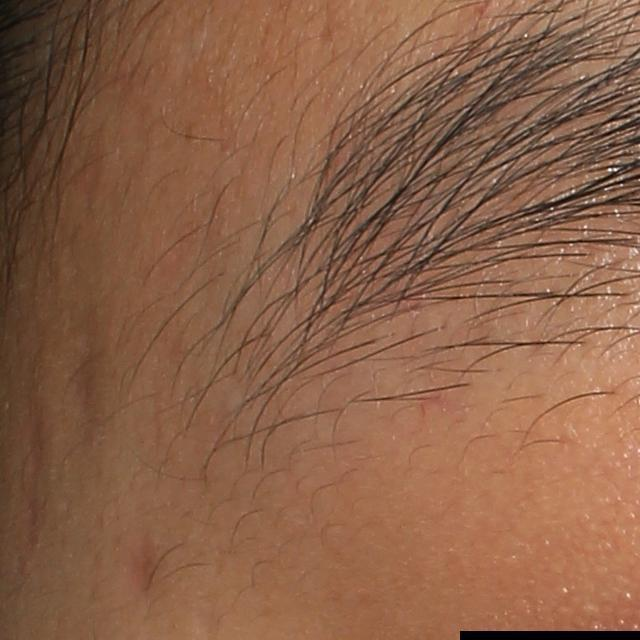atrophic_scar: (65, 296, 102, 452), (23, 409, 47, 539), (118, 520, 154, 584)
